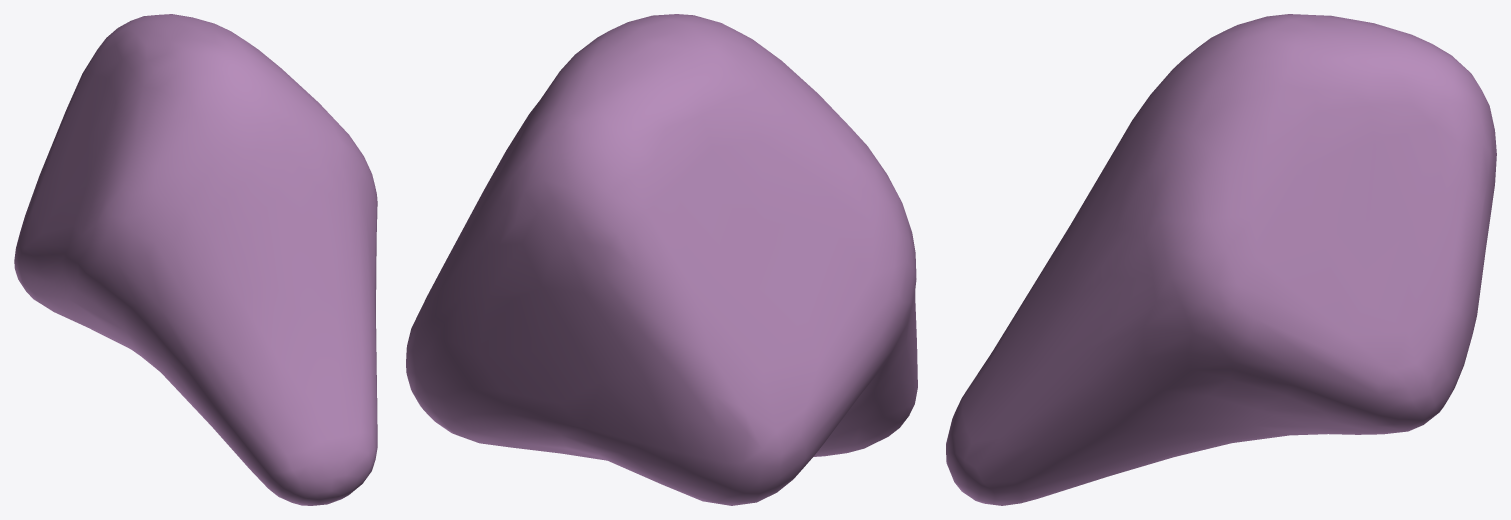
3 renders of one model, left to right at view 1: azimuth 30°, elevation 25°; view 2: azimuth 150°, elevation 25°; view 3: azimuth 270°, elevation 25°, orthographic. The views are drawn at different scales.
Visible parts, largest first — view 1: 蚓锥体; view 2: 蚓锥体; view 3: 蚓锥体.
Boxes of the visible parts, <box> form: 蚓锥体: <box>14,14,377,505</box>; 蚓锥体: <box>406,14,917,505</box>; 蚓锥体: <box>946,14,1496,505</box>.
Size of the model in its own units: 0.0186 by 0.0231 by 0.0244.
